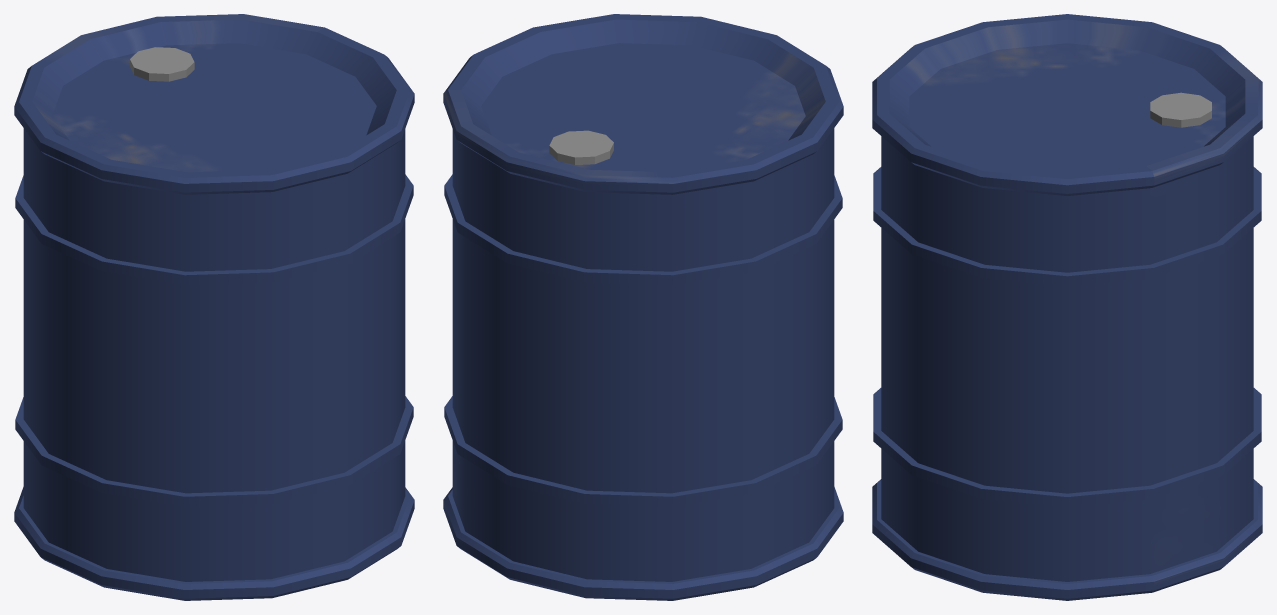
File: obj_oilcask.fbx
3 renders of one model, left to right at view 1: azimuth 30°, elevation 25°; view 2: azimuth 150°, elevation 25°; view 3: azimuth 270°, elevation 25°, orthographic.
Parts seen in each view (by area): view 1: obj_oilcask; view 2: obj_oilcask; view 3: obj_oilcask.
Boxes of the visible parts, x1,y1,x2,y2 form: obj_oilcask: (14,14,414,600); obj_oilcask: (443,14,843,600); obj_oilcask: (872,14,1262,600).
Size of the model in its own units: 1.52 by 1.77 by 1.48.
Materials: 1 (1 with a texture image).
